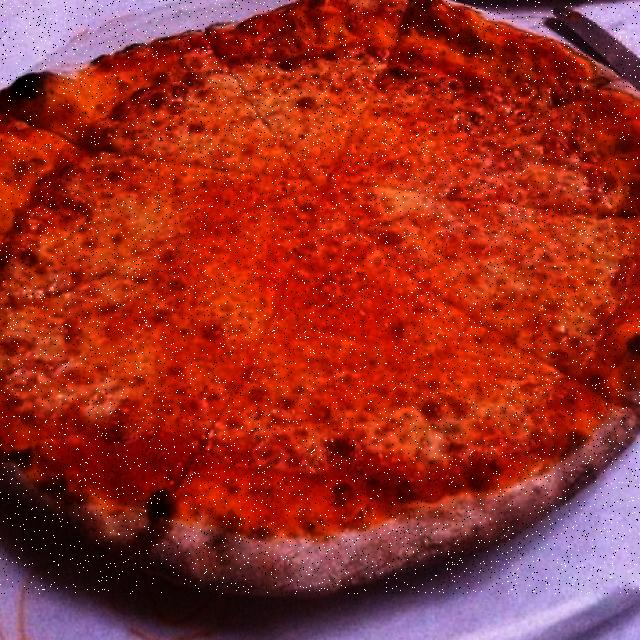Pizza: (0, 0, 640, 594)
